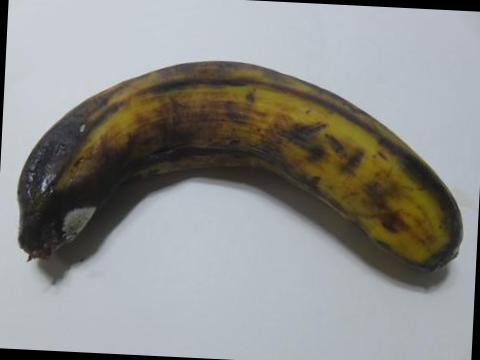overripe: (5, 32, 470, 307)
